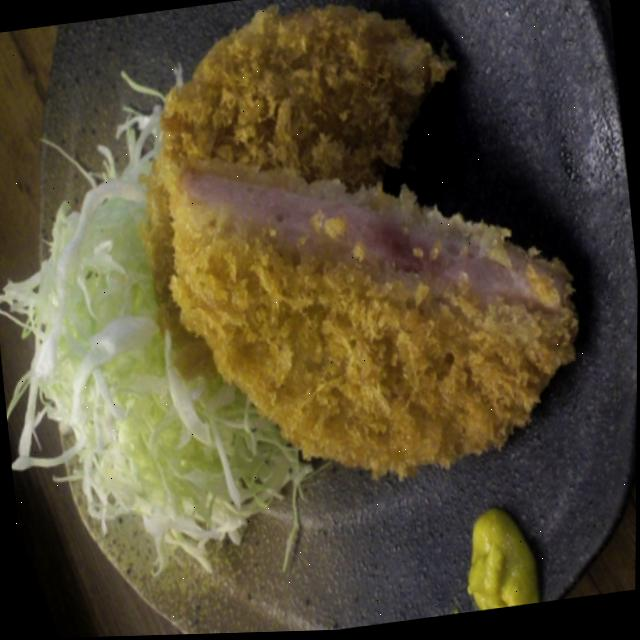炸货点心: (5, 0, 640, 640)
